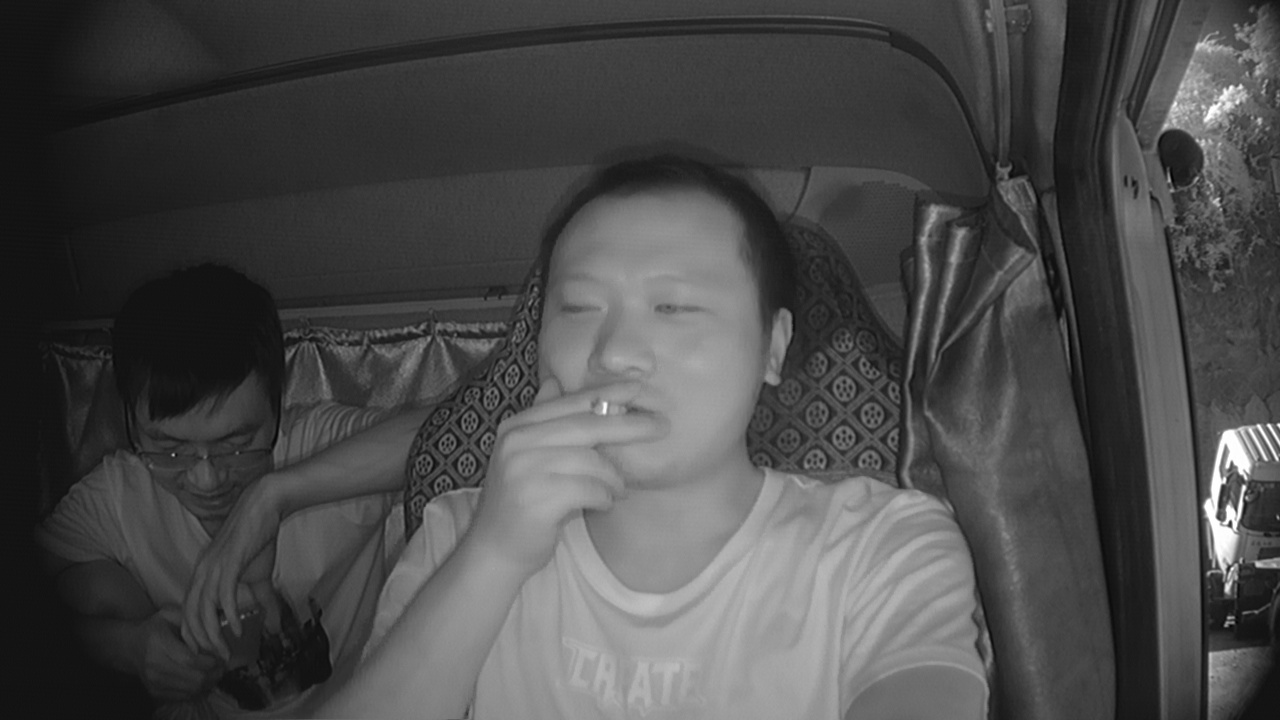hand: (502, 374, 669, 529)
